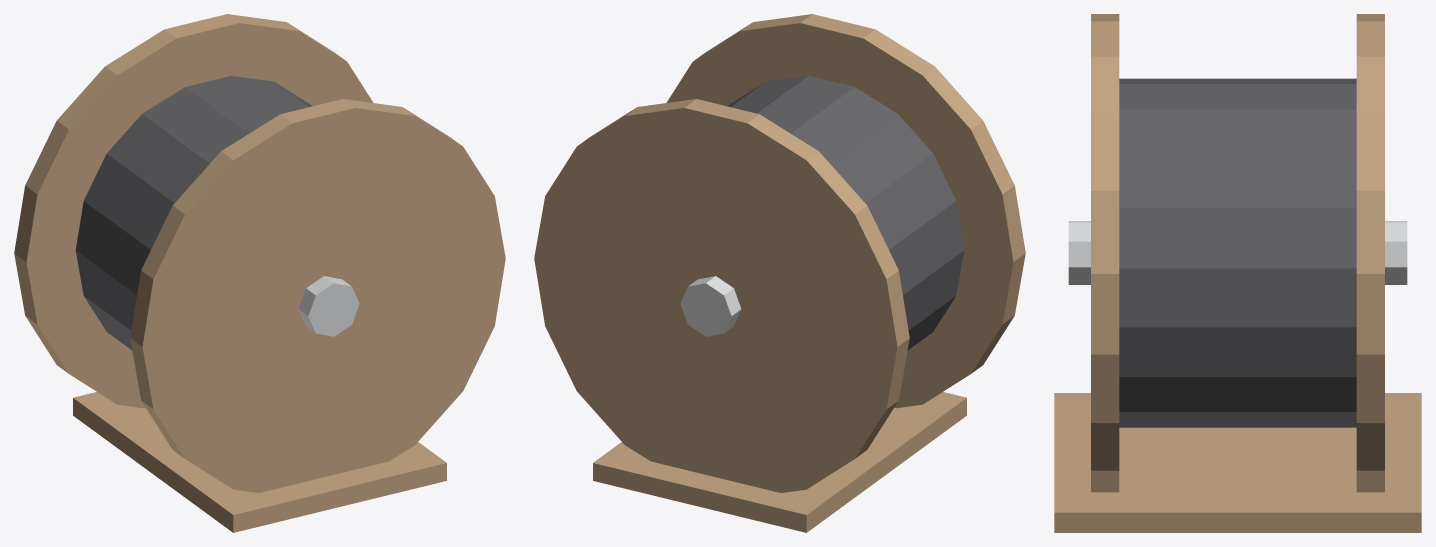
File: Cover_Cable_Drum.fbx
3 renders of one model, left to right at view 1: azimuth 30°, elevation 25°; view 2: azimuth 150°, elevation 25°; view 3: azimuth 270°, elevation 25°, orthographic. The views are drawn at different scales.
Visible parts, largest first — view 1: Cover_Cable_Drum; view 2: Cover_Cable_Drum; view 3: Cover_Cable_Drum.
Boxes of the visible parts, box(x1,y1,x2,y2) form: Cover_Cable_Drum: box(14, 14, 505, 532); Cover_Cable_Drum: box(534, 14, 1025, 532); Cover_Cable_Drum: box(1054, 14, 1421, 532).
Size of the model in its own units: 1.7 by 1.7 by 1.3.
